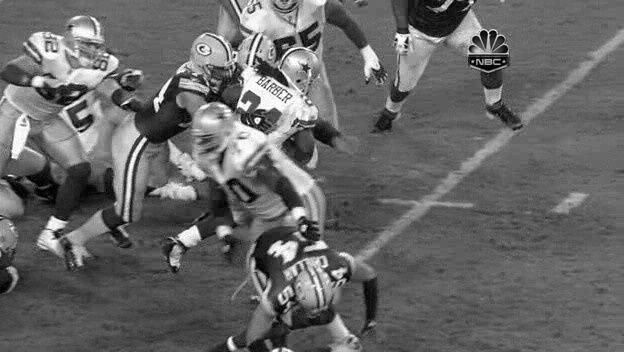person: (286, 47, 321, 92), (285, 47, 320, 92), (287, 47, 322, 92), (286, 46, 321, 91), (286, 48, 321, 93)
target_negative: (135, 44, 619, 294), (170, 155, 507, 321), (174, 211, 449, 308), (215, 169, 574, 229), (301, 221, 311, 238), (545, 259, 549, 272)
